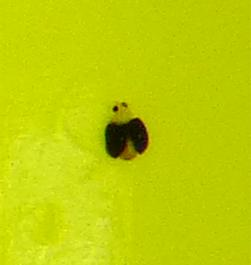Coleoptera: (100, 100, 151, 165)
